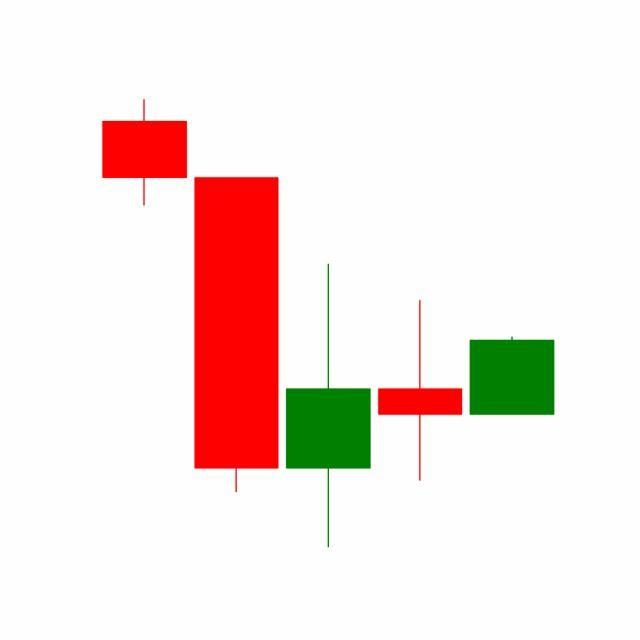Spinning Top: (374, 299, 468, 484)
